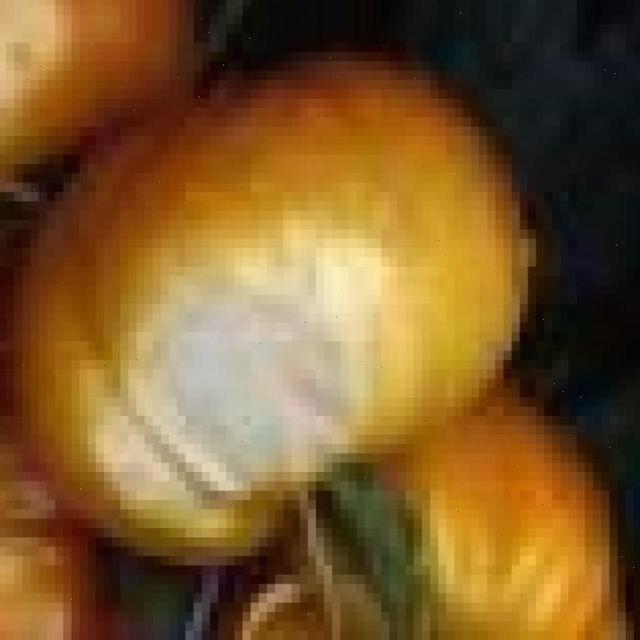Sunscald Fruit: (64, 150, 260, 343)
